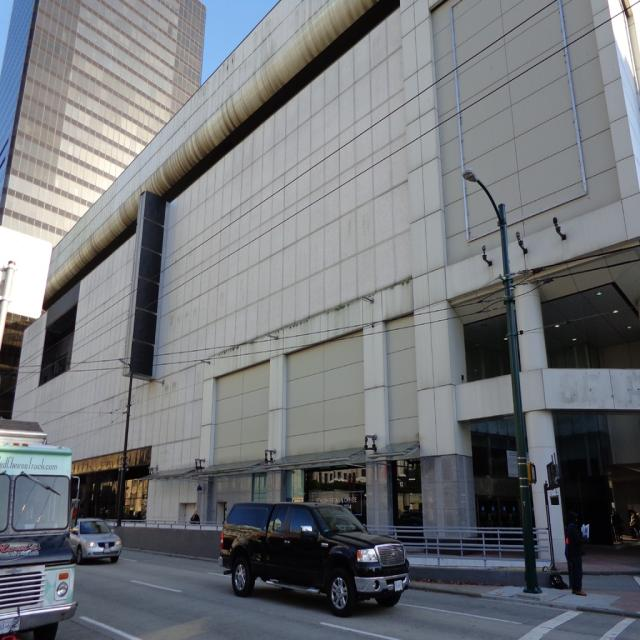car: (215, 493, 415, 619)
